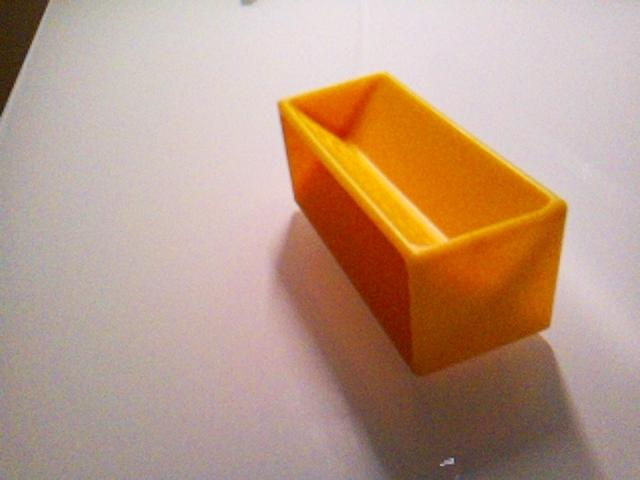yellow: (276, 70, 570, 377)
